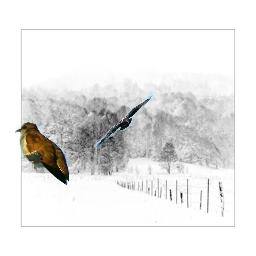Crow: (93, 91, 154, 148)
Cuckoo: (15, 122, 69, 186)
